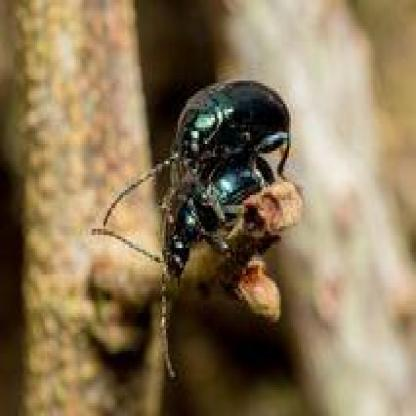beetle: (134, 166, 276, 274), (171, 77, 298, 165)
